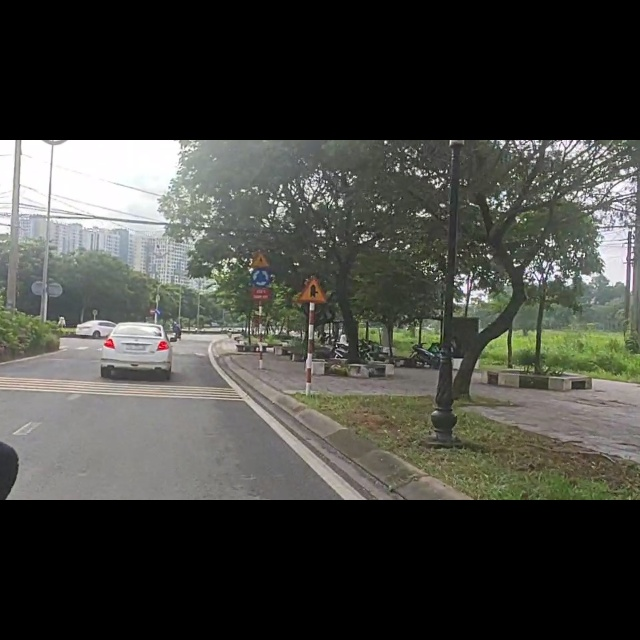bien_hieu_lenh: (295, 244, 327, 292), (251, 228, 272, 262), (251, 200, 271, 226), (155, 299, 162, 314), (149, 297, 155, 312)
